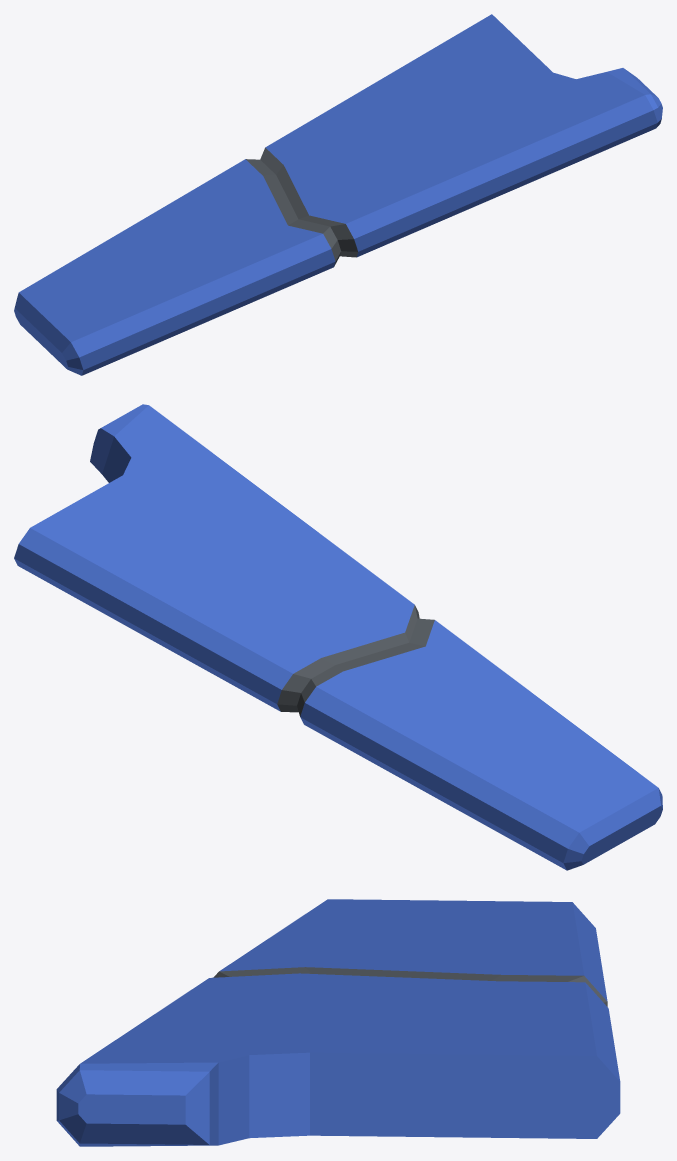
File: Fighter_07_Auxillary_Wing_Right_Blue.fbx
The picture shows the model from 3 angles, top to bottom: view 1: azimuth 30°, elevation 25°; view 2: azimuth 150°, elevation 25°; view 3: azimuth 270°, elevation 25°; orthographic projection. The views are drawn at different scales.
Visible parts, largest first — view 1: Fighter_07_Auxillary_Wing_Right_Blue; view 2: Fighter_07_Auxillary_Wing_Right_Blue; view 3: Fighter_07_Auxillary_Wing_Right_Blue.
Boxes of the visible parts, bbox=[...] form: Fighter_07_Auxillary_Wing_Right_Blue: bbox=[14, 14, 662, 375]; Fighter_07_Auxillary_Wing_Right_Blue: bbox=[14, 404, 662, 870]; Fighter_07_Auxillary_Wing_Right_Blue: bbox=[56, 899, 620, 1146].
Size of the model in its own units: 412 by 149 by 186.
1 material, 1 textured.
